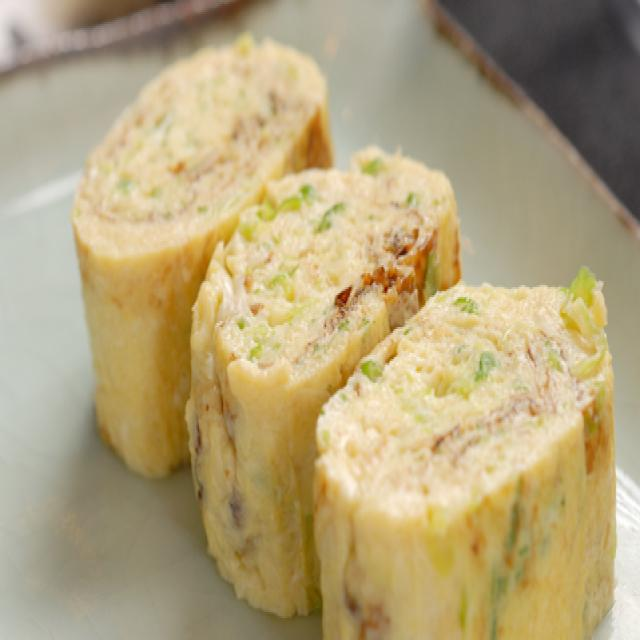鸡蛋料理: (61, 24, 620, 640)
